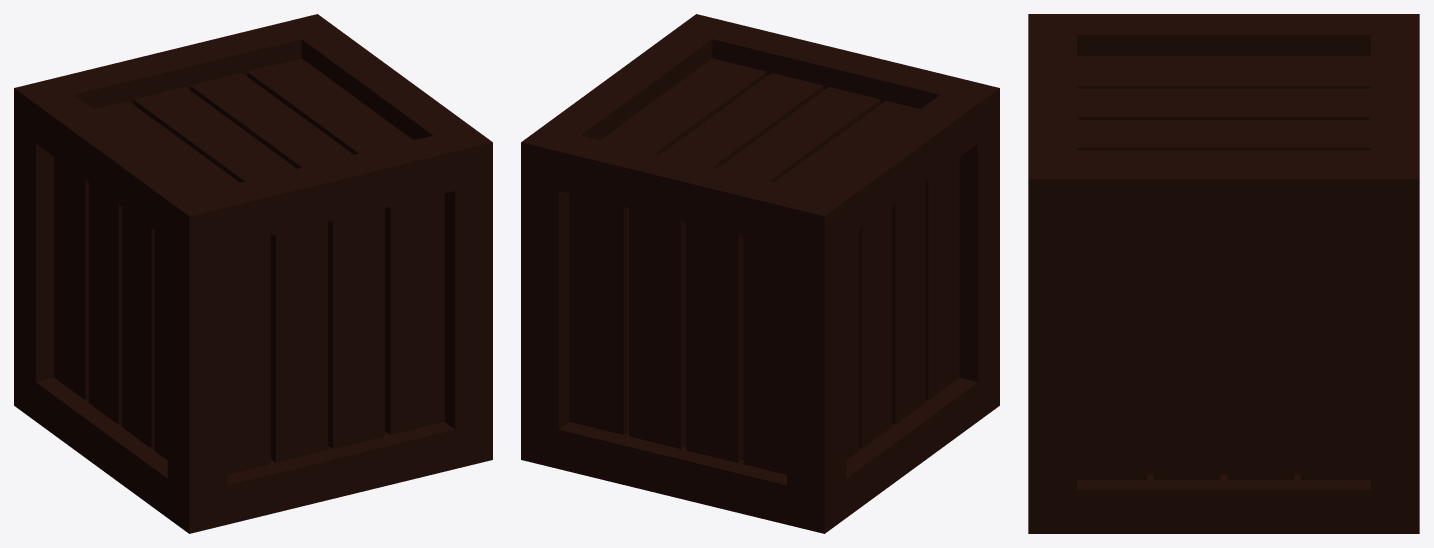
File: wooden box.FBX
3 views of the same model, side by side, from view 1: azimuth 30°, elevation 25°; view 2: azimuth 150°, elevation 25°; view 3: azimuth 270°, elevation 25° (orthographic). The views are drawn at different scales.
Parts seen in each view (by area): view 1: Crate007; view 2: Crate007; view 3: Crate007.
Boxes of the visible parts, x1,y1,x2,y2 form: Crate007: (14,14,492,533); Crate007: (521,14,999,533); Crate007: (1028,14,1419,533).
Bounding box in the file's own units: 3.47 × 3.47 × 3.47.
